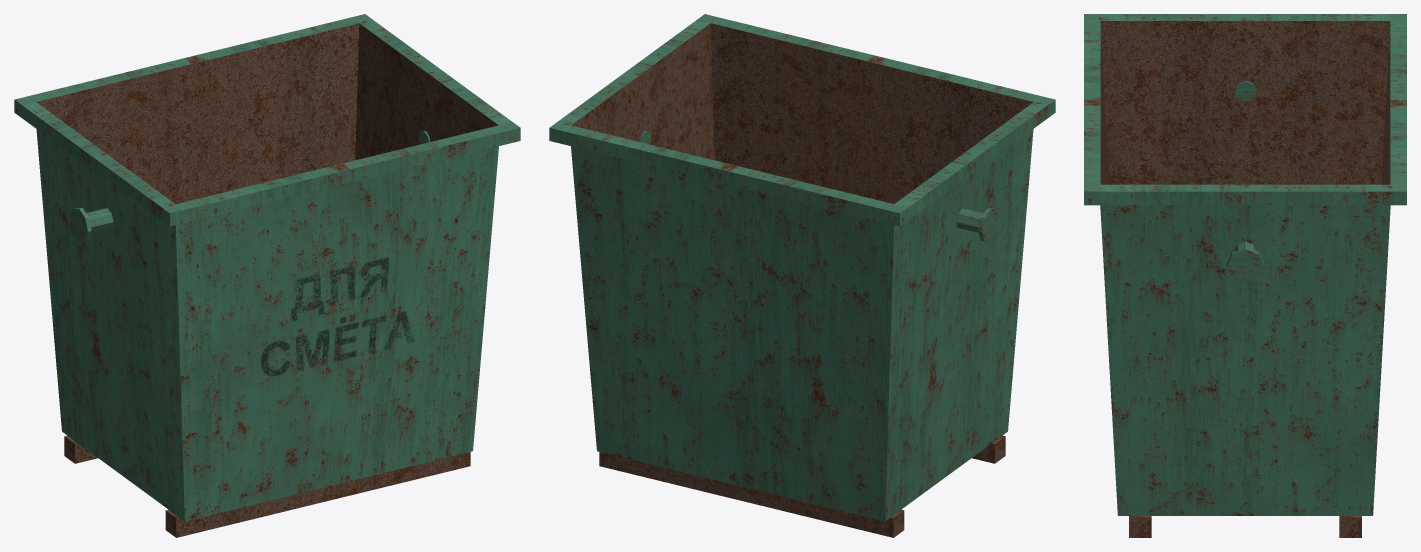
File: container075_lod1_web.glb
3 renders of one model, left to right at view 1: azimuth 30°, elevation 25°; view 2: azimuth 150°, elevation 25°; view 3: azimuth 270°, elevation 25°, orthographic. The views are drawn at different scales.
Parts seen in each view (by area): view 1: Container075_Mesh; view 2: Container075_Mesh; view 3: Container075_Mesh.
Part boxes in pixels (bbox=[...]): Container075_Mesh: bbox=[14, 14, 520, 537]; Container075_Mesh: bbox=[549, 14, 1055, 537]; Container075_Mesh: bbox=[1084, 14, 1406, 537].
Size of the model in its own units: 1.2 by 1.06 by 0.86.
3 materials, 3 textured.
